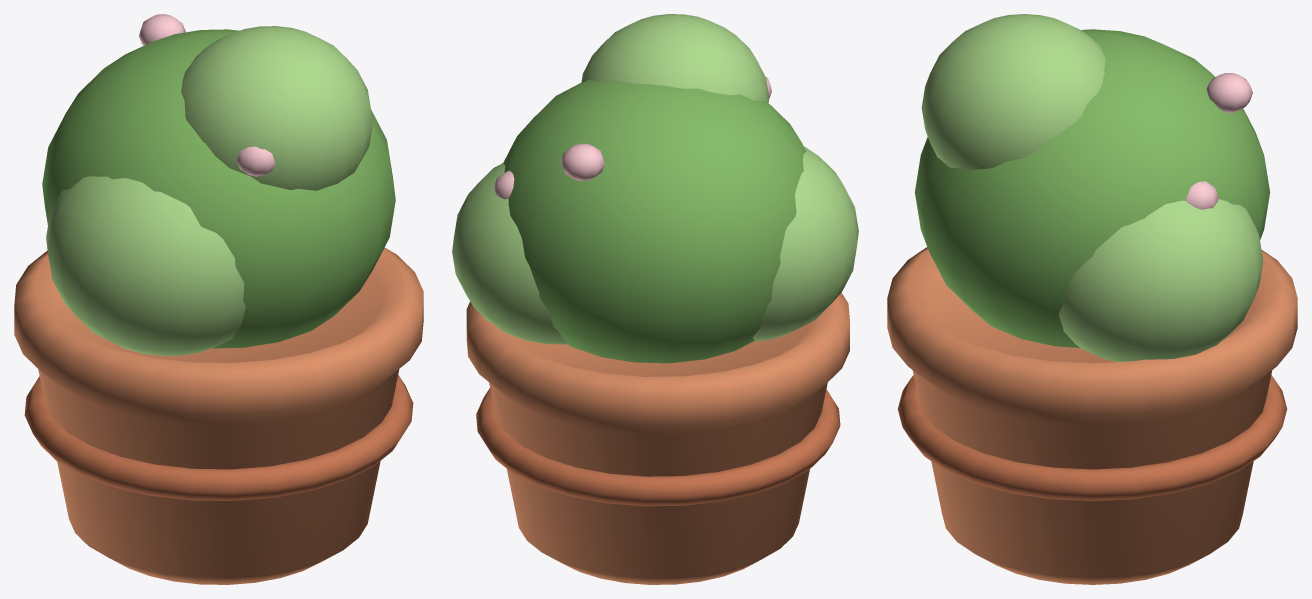
The model's file is hub_planter.glb.
The picture shows the model from 3 angles, left to right: view 1: azimuth 30°, elevation 25°; view 2: azimuth 150°, elevation 25°; view 3: azimuth 270°, elevation 25°; orthographic projection. The views are drawn at different scales.
Parts seen in each view (by area): view 1: HubPlanter; view 2: HubPlanter; view 3: HubPlanter.
Part boxes in pixels (x1,y1,x2,y2): HubPlanter: [14, 14, 423, 584]; HubPlanter: [452, 14, 858, 584]; HubPlanter: [887, 14, 1297, 584].
Bounding box in the file's own units: 0.6 × 0.835 × 0.6.
